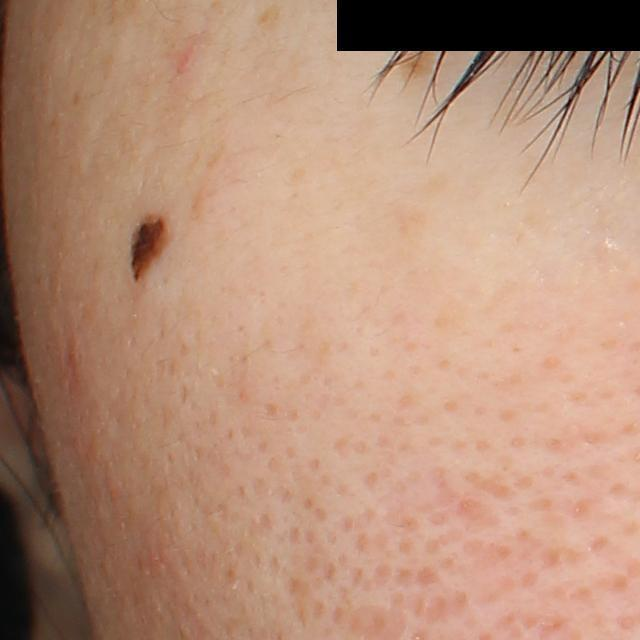atrophic_scar: (281, 573, 320, 628)
melasma: (395, 38, 436, 85), (257, 5, 284, 28)
nevus: (125, 209, 184, 288)
